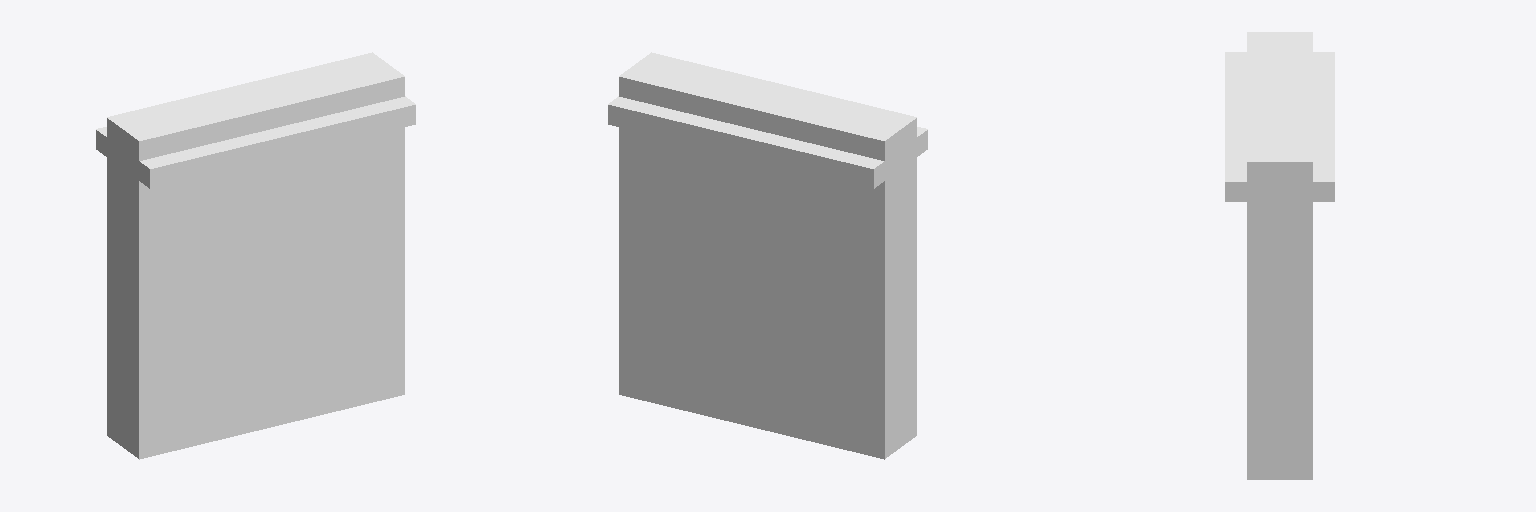
Rendered from murBetonGraffiti.obj.
3 renders of one model, left to right at view 1: azimuth 30°, elevation 25°; view 2: azimuth 150°, elevation 25°; view 3: azimuth 270°, elevation 25°, orthographic.
Parts seen in each view (by area): view 1: object 1; view 2: object 1; view 3: object 1.
Part boxes in pixels (bbox=[...]): object 1: bbox=[96, 52, 415, 459]; object 1: bbox=[608, 52, 927, 459]; object 1: bbox=[1225, 32, 1334, 479].
Size of the model in its own units: 1.4 by 1.6 by 0.5.